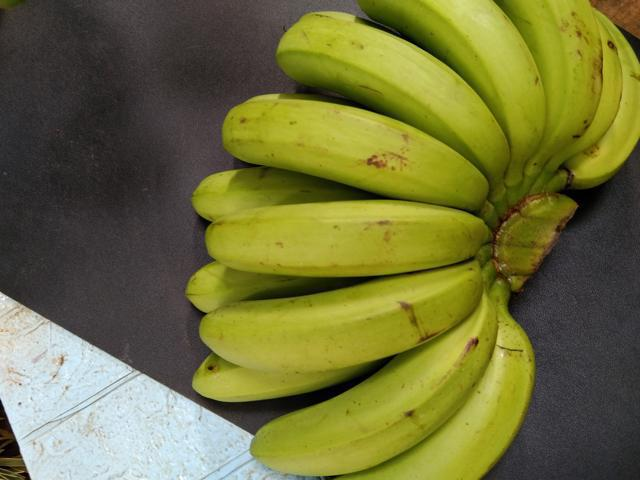freshunripe: (274, 13, 509, 165), (352, 0, 553, 147)
unripe: (245, 284, 510, 468), (190, 253, 484, 369), (216, 87, 486, 213), (195, 198, 495, 281), (519, 0, 614, 141)
